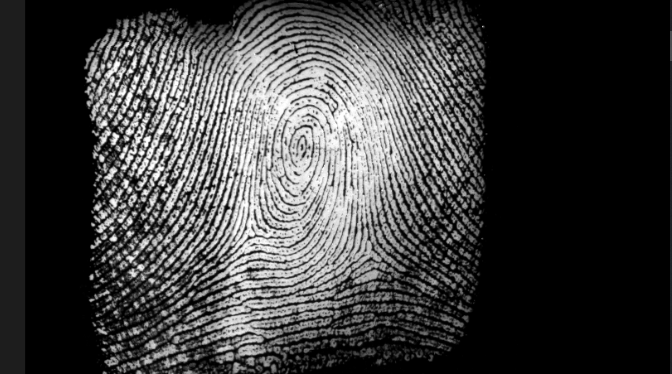deltas: (341, 224, 394, 270), (230, 204, 276, 251)
nucleo: (272, 112, 326, 171)
